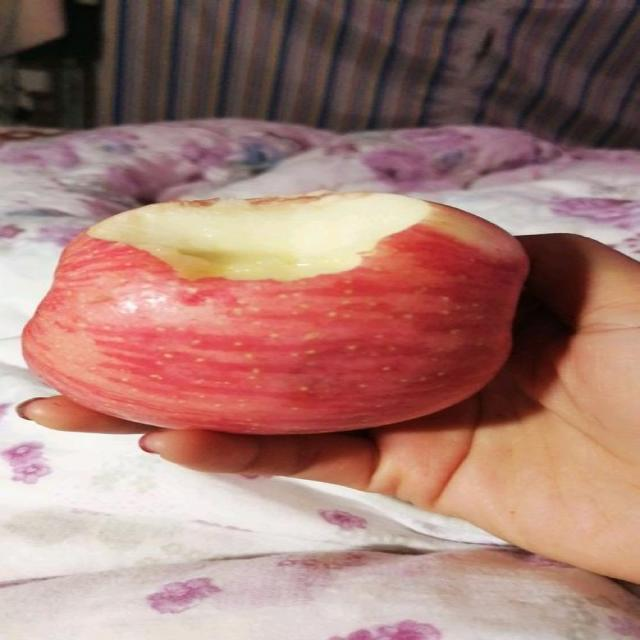Apple: (15, 183, 530, 442)
